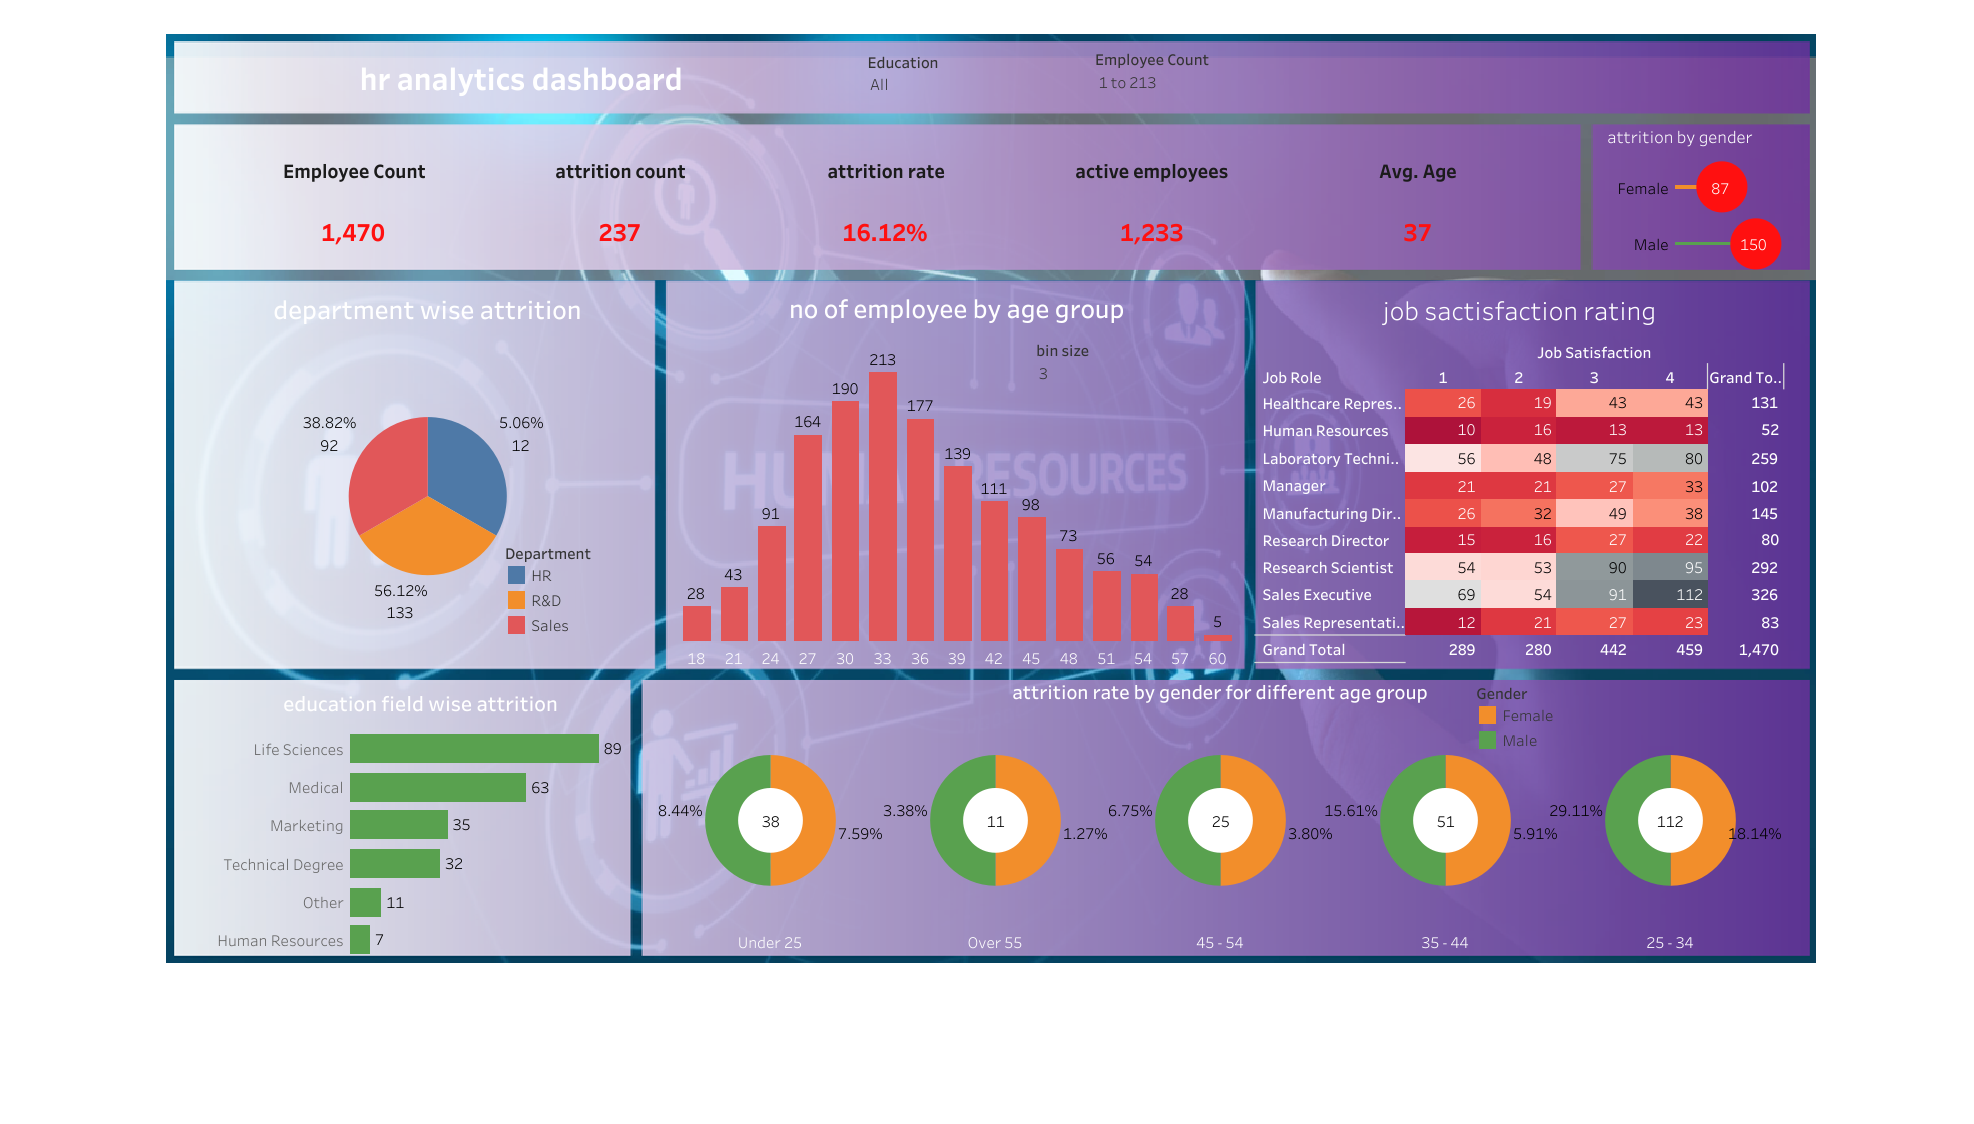

Layout of this report page (visuals, bound fields, positions):
{"tool":"tableau","page":{"name":"Dashboard 1","canvas":[1000,1000],"units":"permille","ordinal":0},"visuals":[{"type":"image","param":"Image/HR background.png","box":[12.8,30,979.2,825.6]},{"type":"filter","title":"no of employee by age group","param":"[federated.1ox0mim1331yqb16owwa217jon67].[sum:Employee Count:qk]","box":[554.7,41.1,94.7,53.3]},{"type":"text","box":[109.4,42.2,309.1,52.2]},{"type":"filter","title":"education field wise attrition","param":"[federated.1ox0mim1331yqb16owwa217jon67].[none:Education:nk]","box":[439.2,43.3,97.7,53.3]},{"type":"worksheet","title":"attrition by gender","mark":"Automatic","rows":["Gender"],"cols":["Calculation_661466249459232768","Calculation_661466249459232768"],"box":[797.2,103.3,106.9,137.8]},{"type":"worksheet","title":"kpi","mark":"Automatic","box":[111.8,117.8,673.8,128.9]},{"type":"worksheet","title":"no of employee by age group","mark":"Automatic","rows":["Employee Count"],"cols":["Age (bin)"],"box":[343.3,251.1,282.8,343.3]},{"type":"worksheet","title":"department wise attrition","mark":"Pie","box":[108.1,252.2,216.9,328.9]},{"type":"worksheet","title":"job sactisfaction rating","mark":"Square","rows":["Job Role"],"cols":["Job Satisfaction"],"box":[635.3,253.3,267.6,335.6]},{"type":"parameter","param":"[Parameters].[Parameter 1]","box":[524.7,300,89.2,80]},{"type":"legend","title":"department wise attrition","param":"[federated.1ox0mim1331yqb16owwa217jon67].[none:Department:nk]","box":[255.3,478.9,59.9,96.7]},{"type":"worksheet","title":"attrition rate by gender for different age group","mark":"Pie","rows":["Calculation_1043990748471803905","Calculation_1043990748471803905"],"cols":["CF_age band"],"box":[332.9,595.6,569.3,255.6]},{"type":"legend","title":"attrition rate by gender for different age group","param":"[federated.1ox0mim1331yqb16owwa217jon67].[none:Gender:nk]","box":[747.1,603.3,85.5,66.7]},{"type":"worksheet","title":"education field wise attrition","mark":"Automatic","rows":["Education Field"],"cols":["Calculation_661466249459232768"],"box":[101.4,605.6,223,246.7]}]}

Visuals, with their boxes on the dashboard's canvas, which has no fixed pixel size, in thousandths of its width and height (x1, y1, x2, y2). These are canvas units, not pixel positions in the 1974x1124 screenshot, which may show the page scaled, cropped or inside an application window:
image: BBox(13, 30, 992, 856)
"no of employee by age group" filter: BBox(555, 41, 649, 94)
text: BBox(109, 42, 418, 94)
"education field wise attrition" filter: BBox(439, 43, 537, 97)
"attrition by gender" worksheet: BBox(797, 103, 904, 241)
"kpi" worksheet: BBox(112, 118, 786, 247)
"no of employee by age group" worksheet: BBox(343, 251, 626, 594)
"department wise attrition" worksheet (Pie marks): BBox(108, 252, 325, 581)
"job sactisfaction rating" worksheet (Square marks): BBox(635, 253, 903, 589)
parameter: BBox(525, 300, 614, 380)
"department wise attrition" legend: BBox(255, 479, 315, 576)
"attrition rate by gender for different age group" worksheet (Pie marks): BBox(333, 596, 902, 851)
"attrition rate by gender for different age group" legend: BBox(747, 603, 833, 670)
"education field wise attrition" worksheet: BBox(101, 606, 324, 852)
